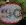Speed limit: (0, 0, 22, 24)
